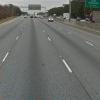Car: (44, 12, 54, 26)
